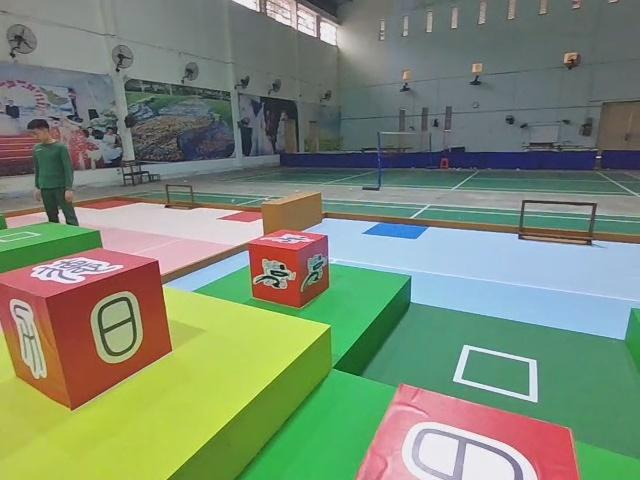R1: (245, 226, 332, 310)
R2 Fake: (0, 245, 174, 411), (354, 377, 584, 480)
